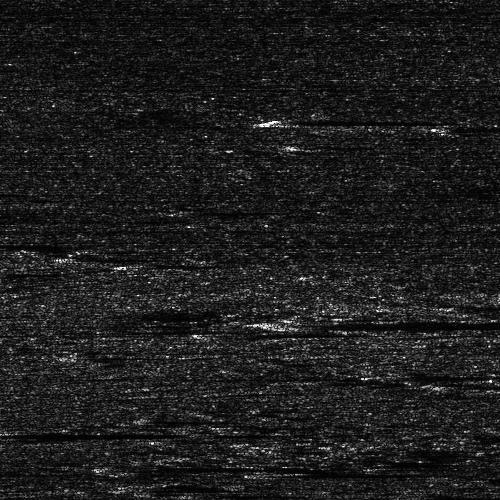object: (226, 318, 351, 327), (415, 121, 488, 132), (132, 479, 185, 490), (242, 471, 325, 476), (84, 462, 147, 467), (0, 238, 17, 247), (371, 373, 402, 376), (278, 117, 289, 122)
shadow: (289, 318, 500, 327), (115, 462, 438, 467), (159, 479, 267, 490), (0, 238, 89, 247), (284, 471, 397, 476), (451, 121, 500, 132), (387, 373, 500, 376), (284, 117, 341, 122), (0, 63, 29, 72)
